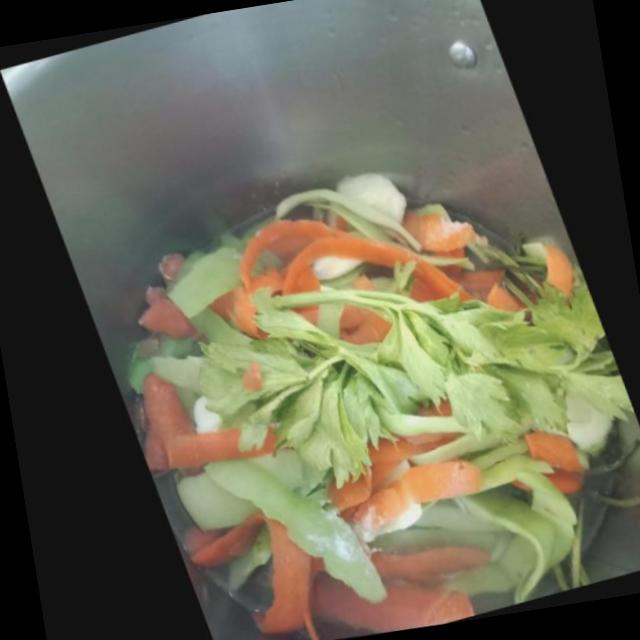vo_rau_cu: (192, 276, 628, 498), (196, 462, 377, 607), (235, 221, 455, 299), (417, 492, 551, 607), (332, 460, 473, 546), (158, 215, 272, 321), (271, 174, 418, 254), (451, 443, 568, 527), (306, 577, 463, 636), (242, 519, 316, 640), (137, 376, 190, 471), (160, 430, 269, 471), (517, 433, 578, 496), (398, 205, 475, 254), (133, 289, 198, 344)
